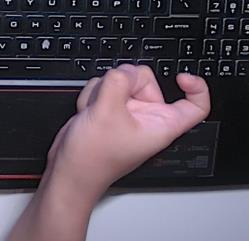anticlockwise: (42, 62, 212, 185)
